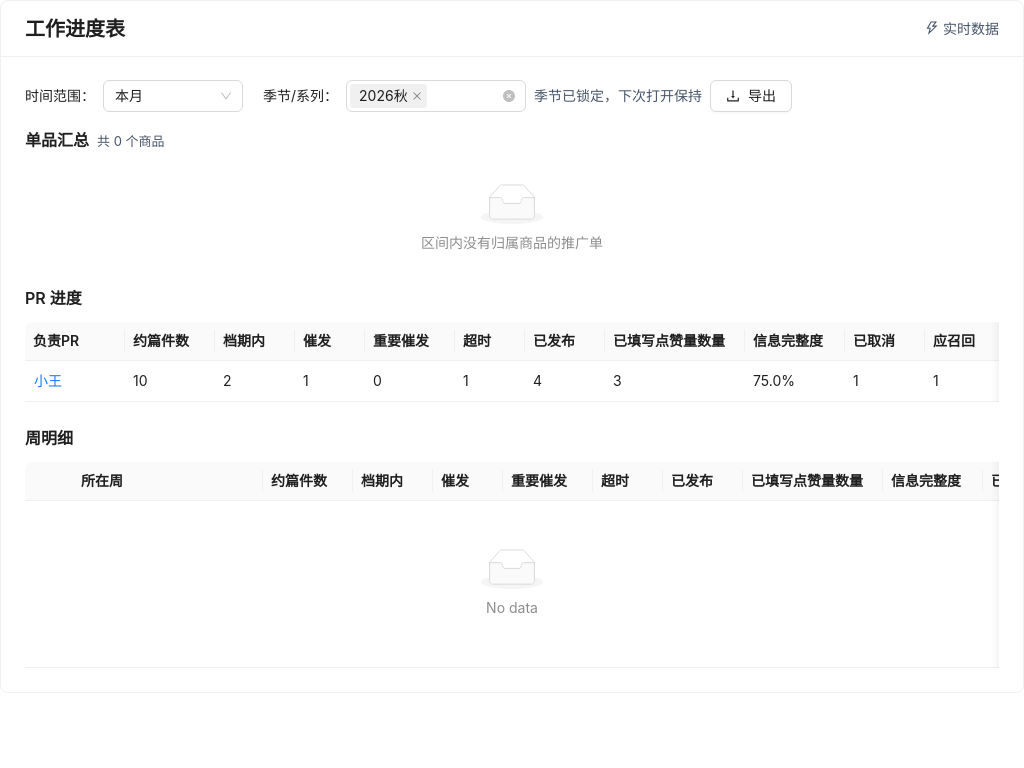
Test: WorkProgressPage PR 表 › 点 PR 名下钻：带该 PR、区间与当前季节
Click the button with aria-label "查看 小王 的推广单" at (48, 381), box [33,369,63,393]
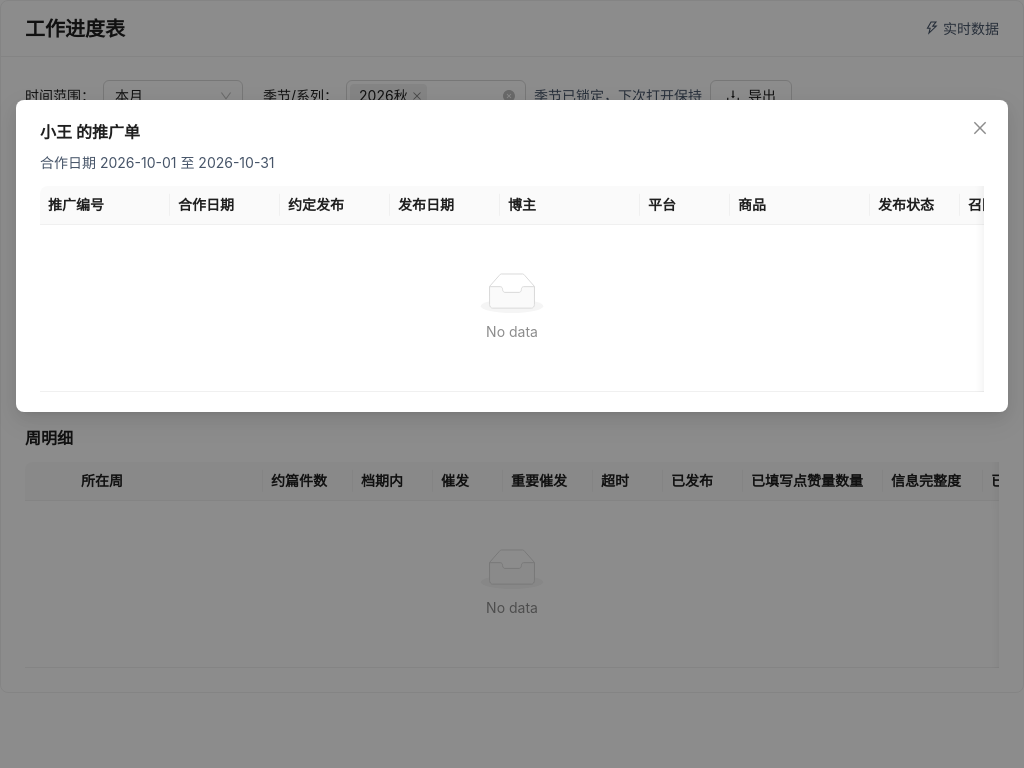
Check: the text "小王 的推广单" is shown, box [40,122,140,142]
